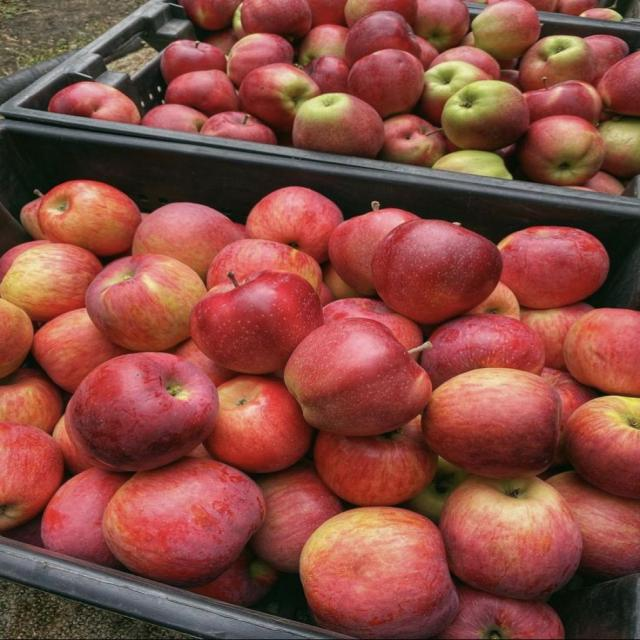apple: (103, 457, 264, 586), (300, 507, 458, 638), (65, 352, 218, 470), (439, 476, 582, 600), (284, 318, 431, 435), (423, 368, 559, 478), (189, 270, 323, 374), (371, 220, 502, 324), (86, 254, 206, 351), (313, 416, 437, 506), (250, 459, 343, 573), (204, 375, 312, 473), (547, 471, 639, 578), (420, 314, 545, 388), (498, 225, 609, 308), (41, 469, 131, 568), (133, 202, 242, 280), (329, 202, 418, 296), (0, 241, 102, 322), (33, 308, 127, 393), (564, 395, 639, 500), (39, 180, 141, 256), (246, 186, 343, 262), (433, 584, 564, 639), (0, 421, 63, 532), (564, 308, 639, 396), (206, 238, 322, 293), (442, 80, 529, 150), (518, 115, 605, 185), (292, 93, 384, 157), (541, 367, 600, 466), (238, 63, 320, 133), (188, 546, 279, 607), (348, 49, 424, 119), (324, 298, 424, 349), (520, 302, 593, 369), (402, 457, 469, 524), (519, 35, 595, 91), (0, 368, 64, 434), (471, 0, 541, 59), (344, 11, 419, 66), (0, 192, 46, 279), (48, 81, 140, 124), (226, 33, 294, 86), (378, 114, 446, 167), (52, 416, 112, 475), (524, 80, 602, 125), (165, 69, 238, 116), (169, 339, 237, 386), (161, 39, 227, 84), (413, 0, 470, 52), (241, 0, 312, 39), (0, 298, 33, 378), (598, 52, 639, 116), (599, 117, 639, 179), (200, 112, 277, 144), (432, 149, 512, 179), (430, 46, 500, 79), (585, 34, 629, 83), (297, 24, 348, 66), (0, 239, 49, 281), (466, 282, 520, 319), (344, 0, 417, 27), (141, 104, 207, 133), (180, 0, 241, 30), (304, 55, 350, 93), (323, 261, 360, 304), (0, 515, 43, 548), (203, 24, 238, 55), (308, 0, 346, 27), (583, 171, 625, 195), (416, 36, 438, 70), (555, 0, 598, 15), (580, 7, 623, 21), (232, 3, 248, 39), (499, 69, 521, 90), (320, 282, 337, 306), (527, 0, 558, 12)
